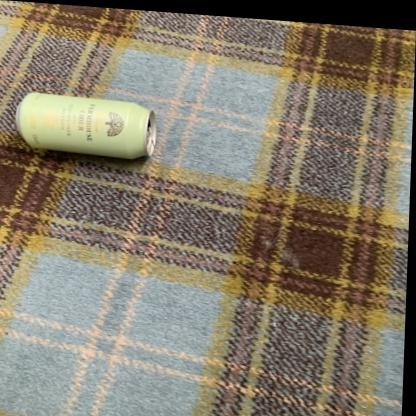trash: (16, 93, 155, 158)
